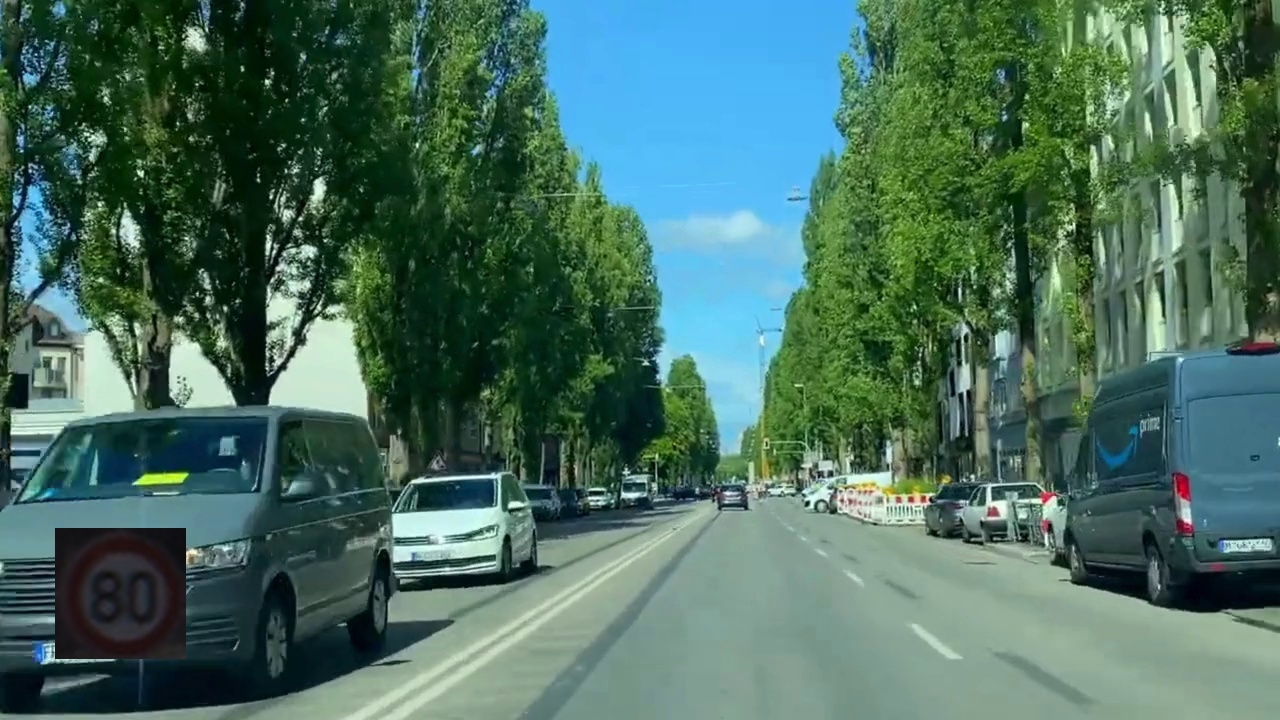Speed 80: (55, 528, 186, 659)
